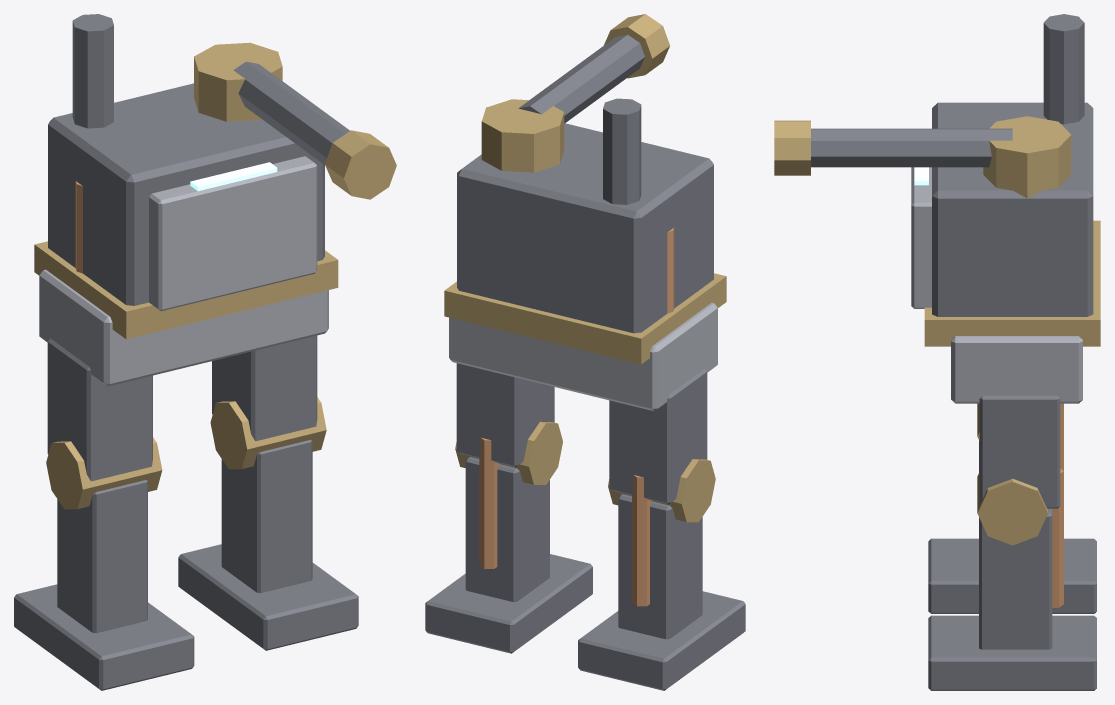
File: gearforge_walker_prototype.glb
The picture shows the model from 3 angles, left to right: view 1: azimuth 30°, elevation 25°; view 2: azimuth 150°, elevation 25°; view 3: azimuth 270°, elevation 25°; orthographic projection. The views are drawn at different scales.
Visible parts, largest first — view 1: gearforge_walker_prototype_dark_iron_lod0, gearforge_walker_prototype_steel_lod0, gearforge_walker_prototype_brass_lod0, gearforge_walker_prototype_aether_glow_lod0, gearforge_walker_prototype_copper_lod0; view 2: gearforge_walker_prototype_dark_iron_lod0, gearforge_walker_prototype_brass_lod0, gearforge_walker_prototype_steel_lod0, gearforge_walker_prototype_copper_lod0; view 3: gearforge_walker_prototype_dark_iron_lod0, gearforge_walker_prototype_brass_lod0, gearforge_walker_prototype_steel_lod0, gearforge_walker_prototype_copper_lod0.
Part boxes in pixels (x1,y1,x2,y2): gearforge_walker_prototype_dark_iron_lod0: (14,14,358,690); gearforge_walker_prototype_steel_lod0: (39,156,328,386); gearforge_walker_prototype_brass_lod0: (34,42,396,509); gearforge_walker_prototype_aether_glow_lod0: (190,162,277,191); gearforge_walker_prototype_copper_lod0: (75,181,82,273); gearforge_walker_prototype_dark_iron_lod0: (425,34,745,690); gearforge_walker_prototype_brass_lod0: (444,14,726,522); gearforge_walker_prototype_steel_lod0: (449,302,717,411); gearforge_walker_prototype_copper_lod0: (479,227,674,606); gearforge_walker_prototype_dark_iron_lod0: (811,14,1096,690); gearforge_walker_prototype_brass_lod0: (774,116,1100,545); gearforge_walker_prototype_steel_lod0: (911,167,1082,403); gearforge_walker_prototype_copper_lod0: (1052,403,1063,607).
Size of the model in its own units: 1.96 by 4.34 by 2.23.
